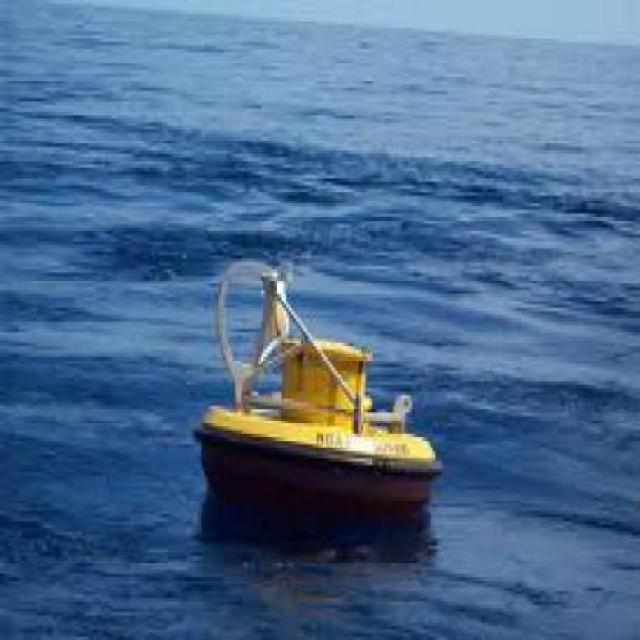buoy: (179, 239, 455, 540)
